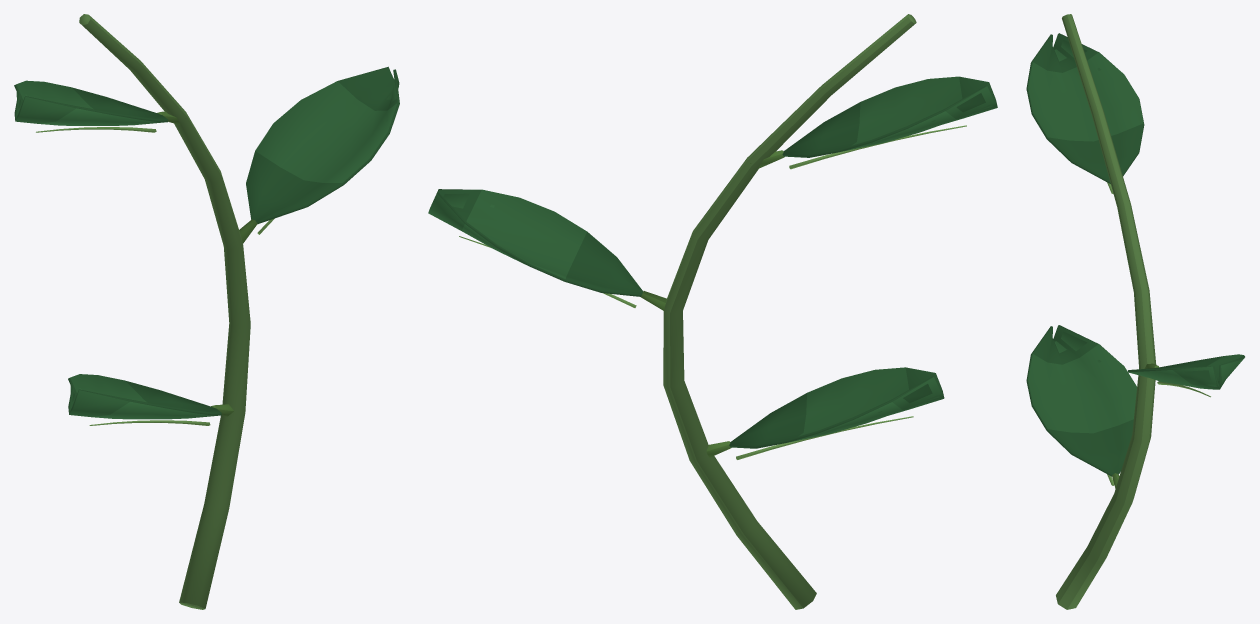
File: garden-geranium-bloom-stem-3.glb
3 renders of one model, left to right at view 1: azimuth 30°, elevation 25°; view 2: azimuth 150°, elevation 25°; view 3: azimuth 270°, elevation 25°, orthographic. The views are drawn at different scales.
Parts seen in each view (by area): view 1: geranium-bloom-stem-3; view 2: geranium-bloom-stem-3; view 3: geranium-bloom-stem-3.
Boxes of the visible parts, x1=… form: geranium-bloom-stem-3: x1=14, y1=14, x2=399, y2=609; geranium-bloom-stem-3: x1=428, y1=14, x2=997, y2=609; geranium-bloom-stem-3: x1=1026, y1=14, x2=1244, y2=609.
Bounding box in the file's own units: 0.276 × 0.3435 × 0.1247.
